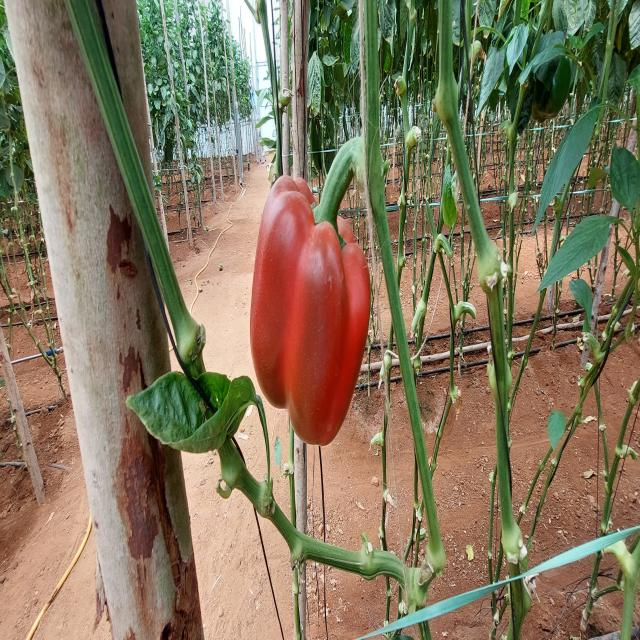Red-Ready-to-Harvest: (252, 176, 372, 443)
